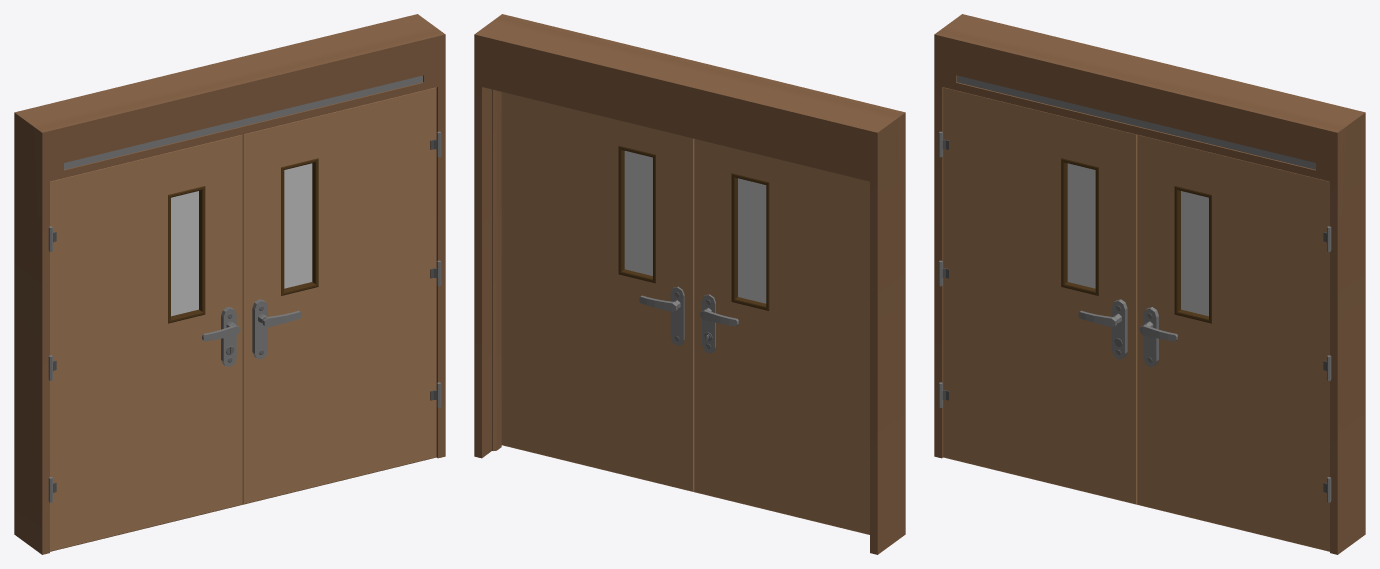
File: M_DubleDoor01_2.fbx
3 views of the same model, side by side, from view 1: azimuth 30°, elevation 25°; view 2: azimuth 150°, elevation 25°; view 3: azimuth 330°, elevation 25° (orthographic).
Parts seen in each view (by area): view 1: M_DubleDoor01_2; view 2: M_DubleDoor01_2; view 3: M_DubleDoor01_2.
Part boxes in pixels (x1=…): M_DubleDoor01_2: x1=14, y1=14, x2=445, y2=554; M_DubleDoor01_2: x1=474, y1=14, x2=905, y2=554; M_DubleDoor01_2: x1=934, y1=14, x2=1365, y2=554.
Size of what is drawn, in the model's own units: 250 by 39.93 by 250.
